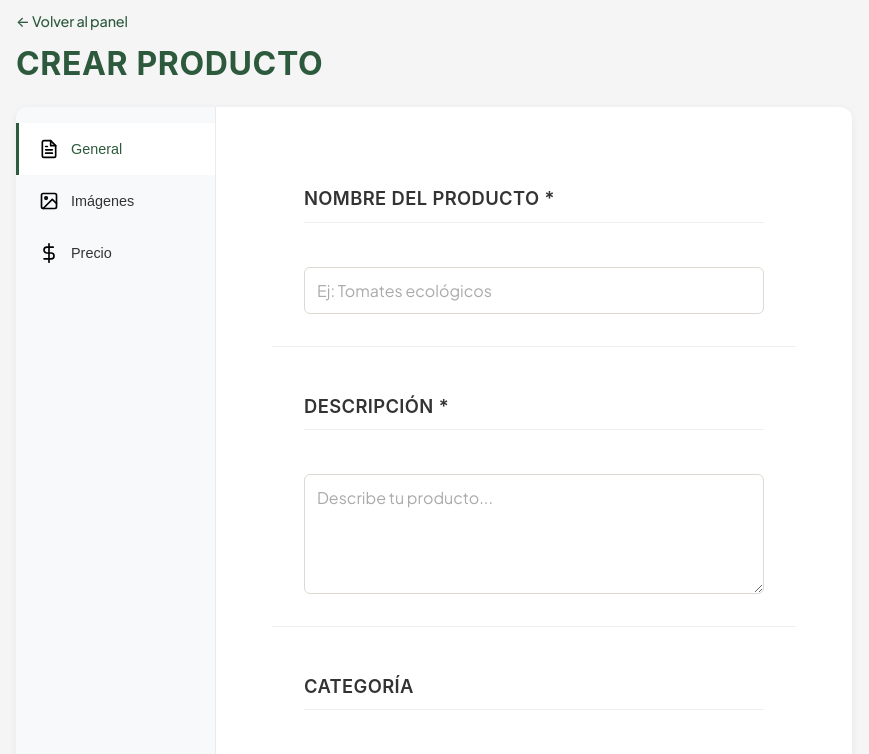
Test: ProducerProductForm › Create product › pricing tab has price, unit, stock and availability toggle when no variants
This screenshot has width=869, height=754.
Click the button "Precio" at (116, 253), box left=16, top=227, right=215, bottom=279
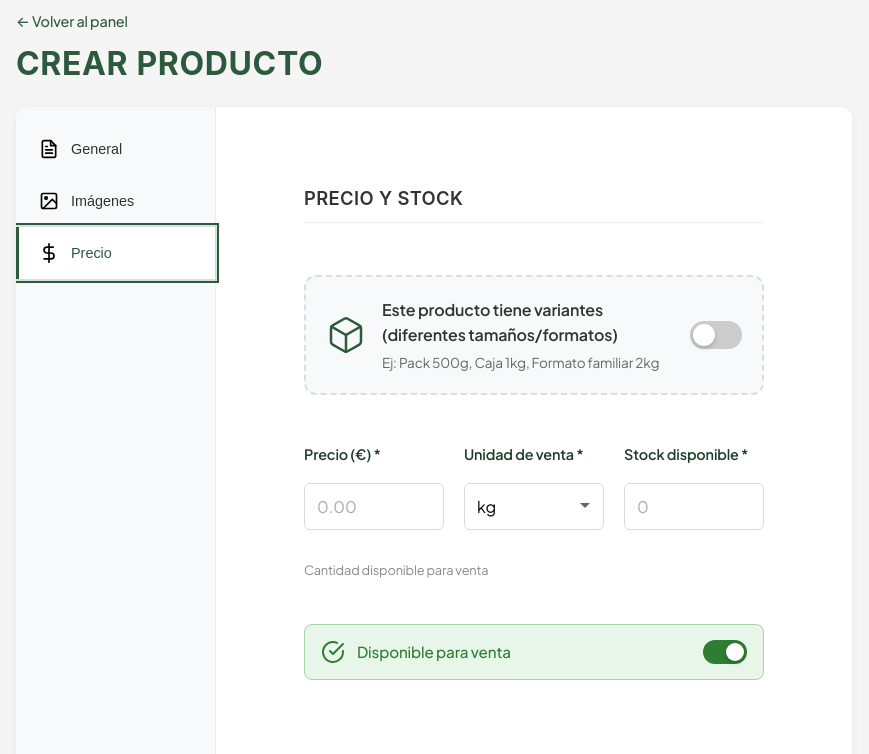
Expected: the number field named "price" is shown, left=304, top=482, right=444, bottom=530
Expected: the dropdown named "unit" is shown, left=464, top=482, right=604, bottom=530
Expected: the number field named "stock" is shown, left=624, top=482, right=764, bottom=530
